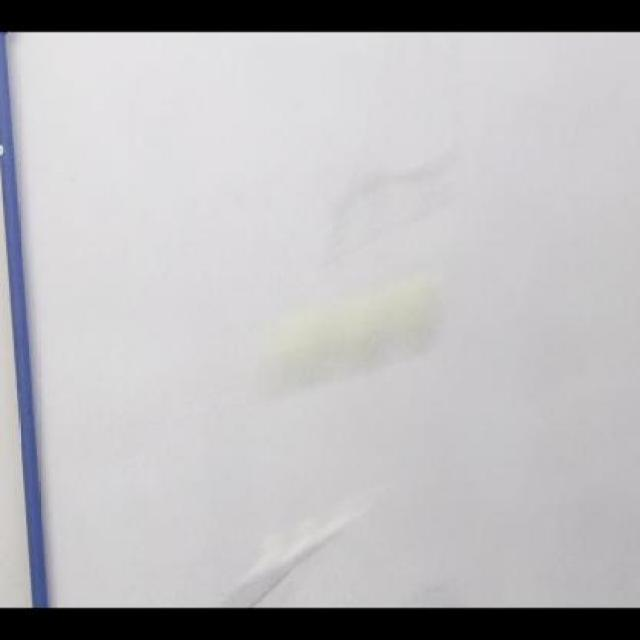baseball: (266, 292, 442, 386)
